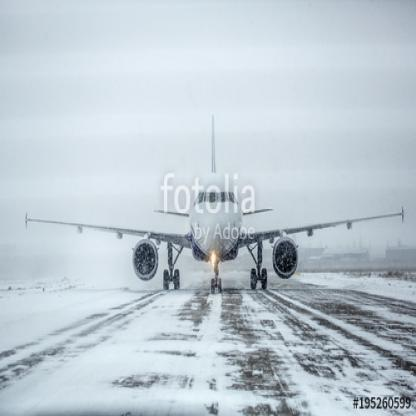CIV_Plane: (21, 110, 405, 299)
